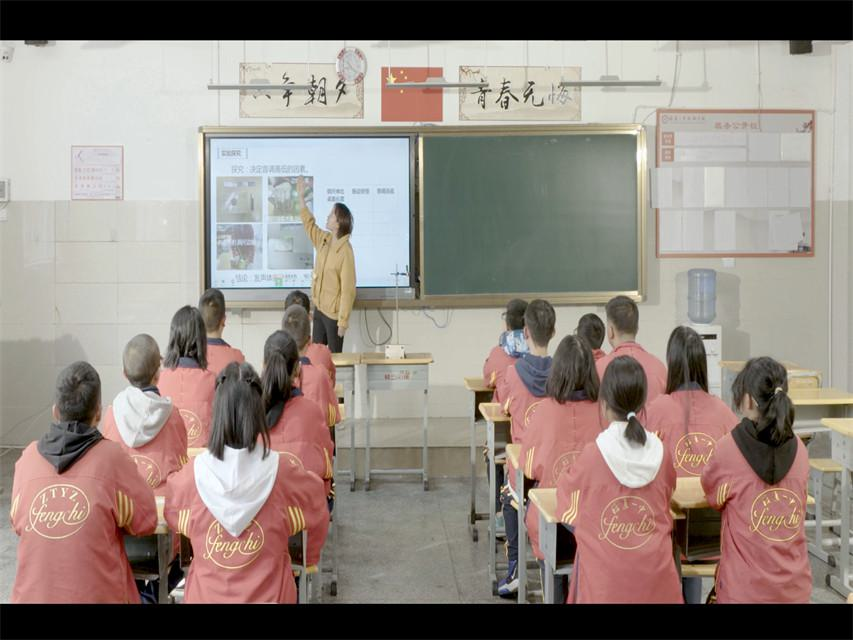listen: (260, 334, 338, 451), (110, 324, 178, 442), (539, 335, 602, 453), (497, 291, 553, 396), (594, 298, 666, 369), (270, 308, 330, 378)
